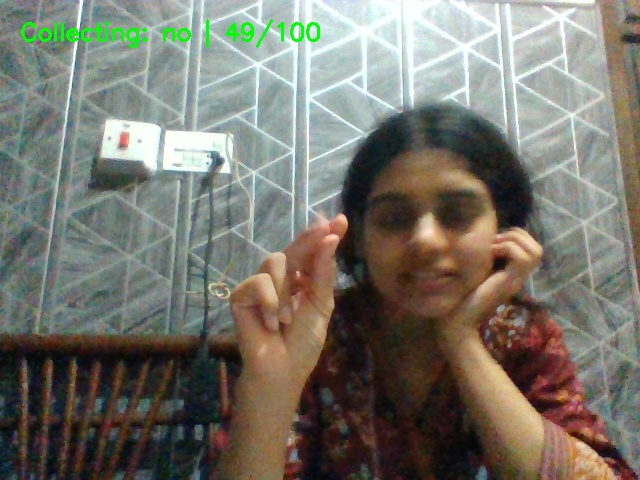no: (202, 199, 378, 396)
